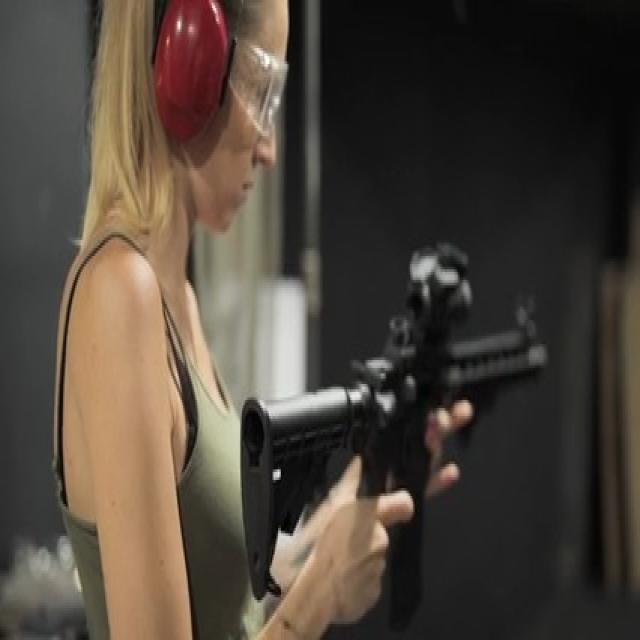Gun_Holder: (210, 234, 597, 638)
Person: (49, 0, 398, 640)
